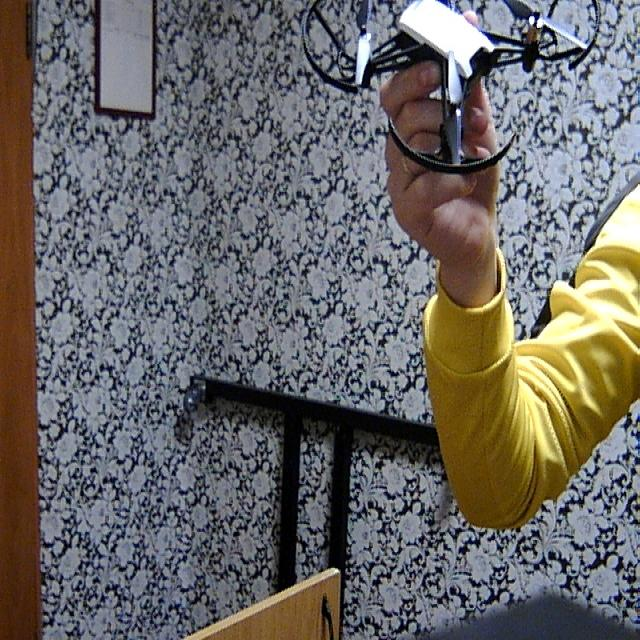drone: (287, 0, 618, 181)
